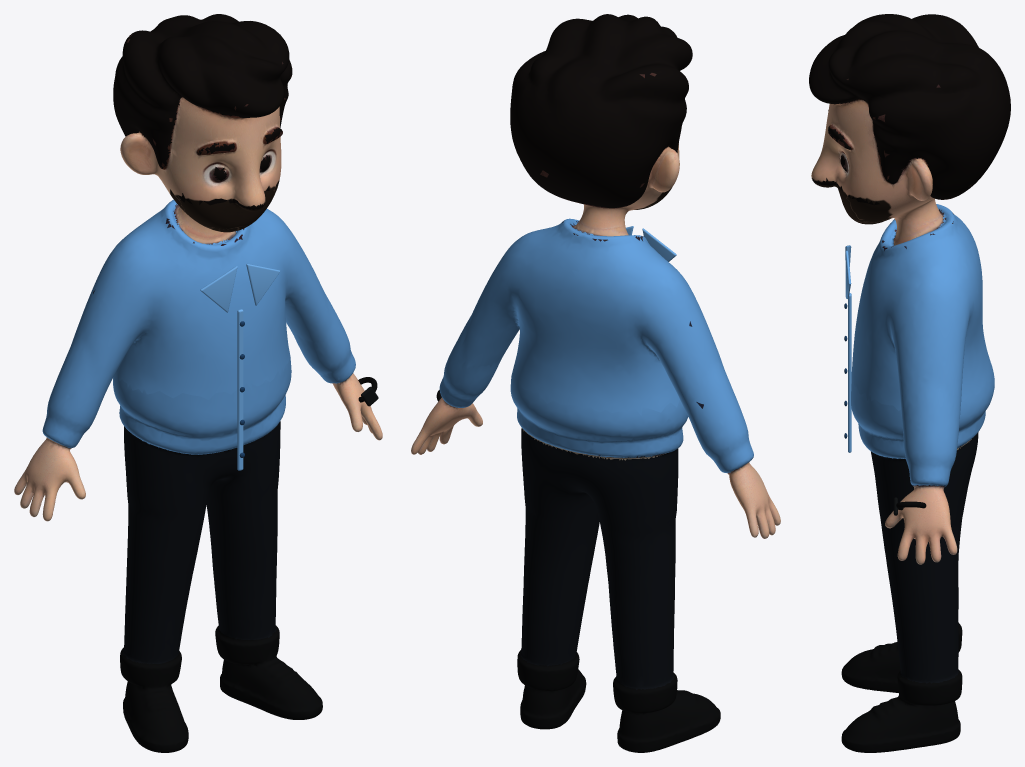
The model's file is AbdullahEkinci_GameReady.obj.
3 renders of one model, left to right at view 1: azimuth 30°, elevation 25°; view 2: azimuth 150°, elevation 25°; view 3: azimuth 270°, elevation 25°, orthographic.
Visible parts, largest first — view 1: AbdullahEkinci_Static; view 2: AbdullahEkinci_Static; view 3: AbdullahEkinci_Static.
Boxes of the visible parts, x1,y1,x2,y2 form: AbdullahEkinci_Static: [14, 14, 382, 752]; AbdullahEkinci_Static: [411, 14, 780, 752]; AbdullahEkinci_Static: [809, 14, 1010, 752].
Size of the model in its own units: 100 by 190 by 50.81.
Materials: 9 (1 with a texture image).
